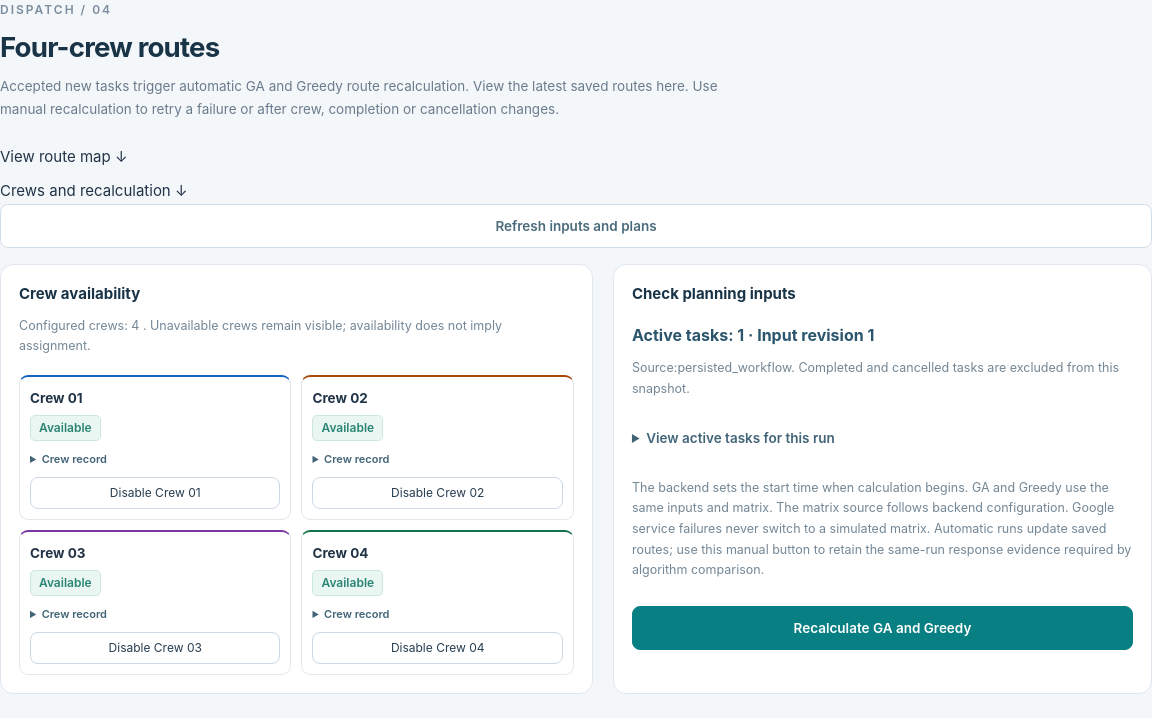
Scenario: saves availability then explicitly recalculates using the returned revision
Expected: the button "Disable Crew 02" is enabled, x1=312 y1=477 x2=563 y2=509
Click the button "Disable Crew 01": [155, 493] box x1=30 y1=477 x2=280 y2=509
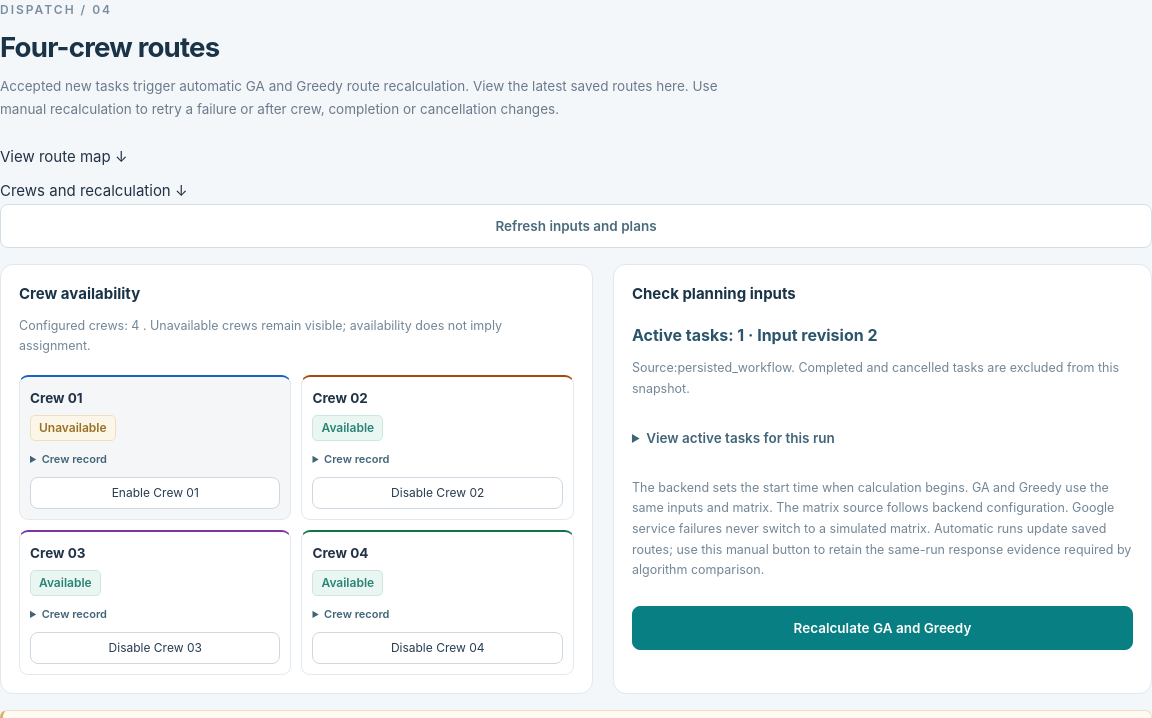
Click the button "Recalculate GA and Greedy": [882, 628] box x1=632 y1=606 x2=1133 y2=650
(page scrolled)
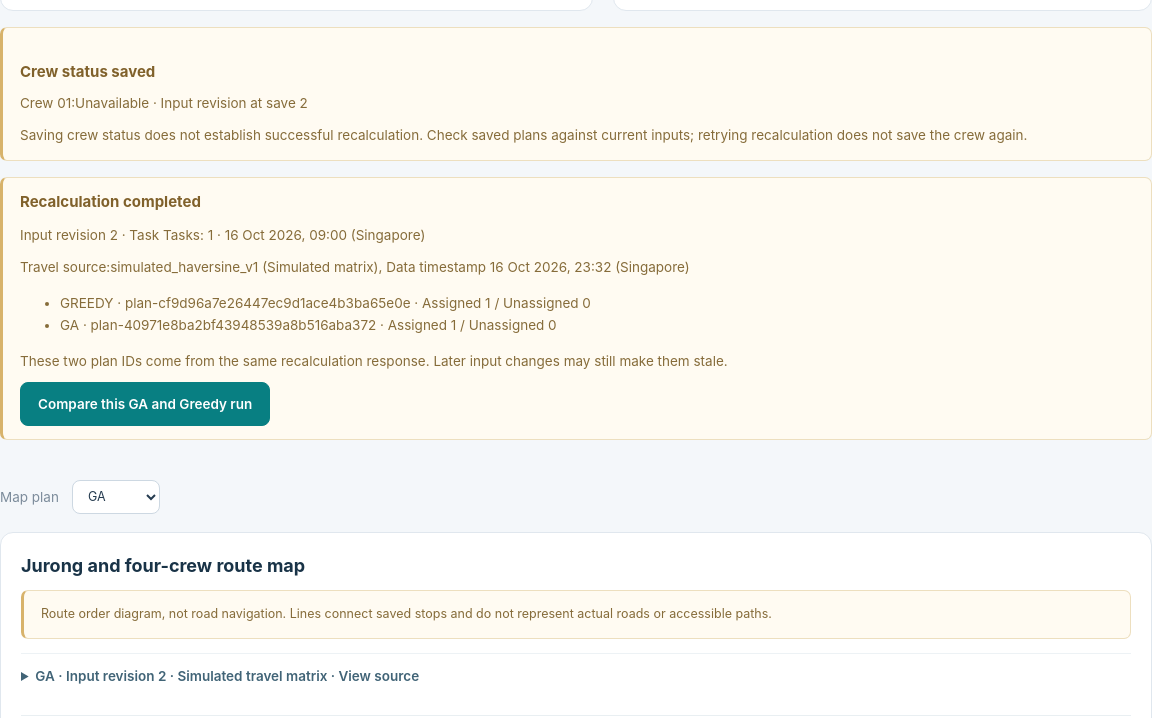
Result: the heading "Recalculation completed" is shown at x1=20 y1=192 x2=201 y2=211
Result: the text "These two plan IDs come from the same" is shown at x1=20 y1=353 x2=728 y2=369
